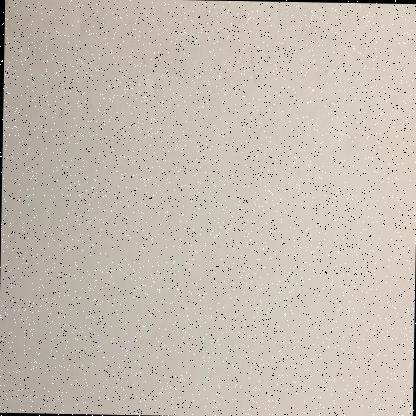Nocrack: (16, 15, 392, 399)
